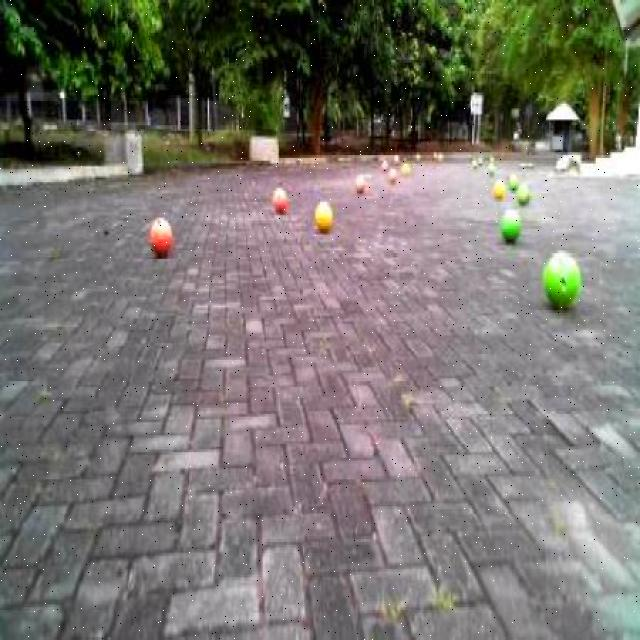buoy: (536, 238, 585, 321), (144, 207, 178, 264), (497, 196, 524, 248), (310, 190, 336, 238), (269, 181, 289, 214)
